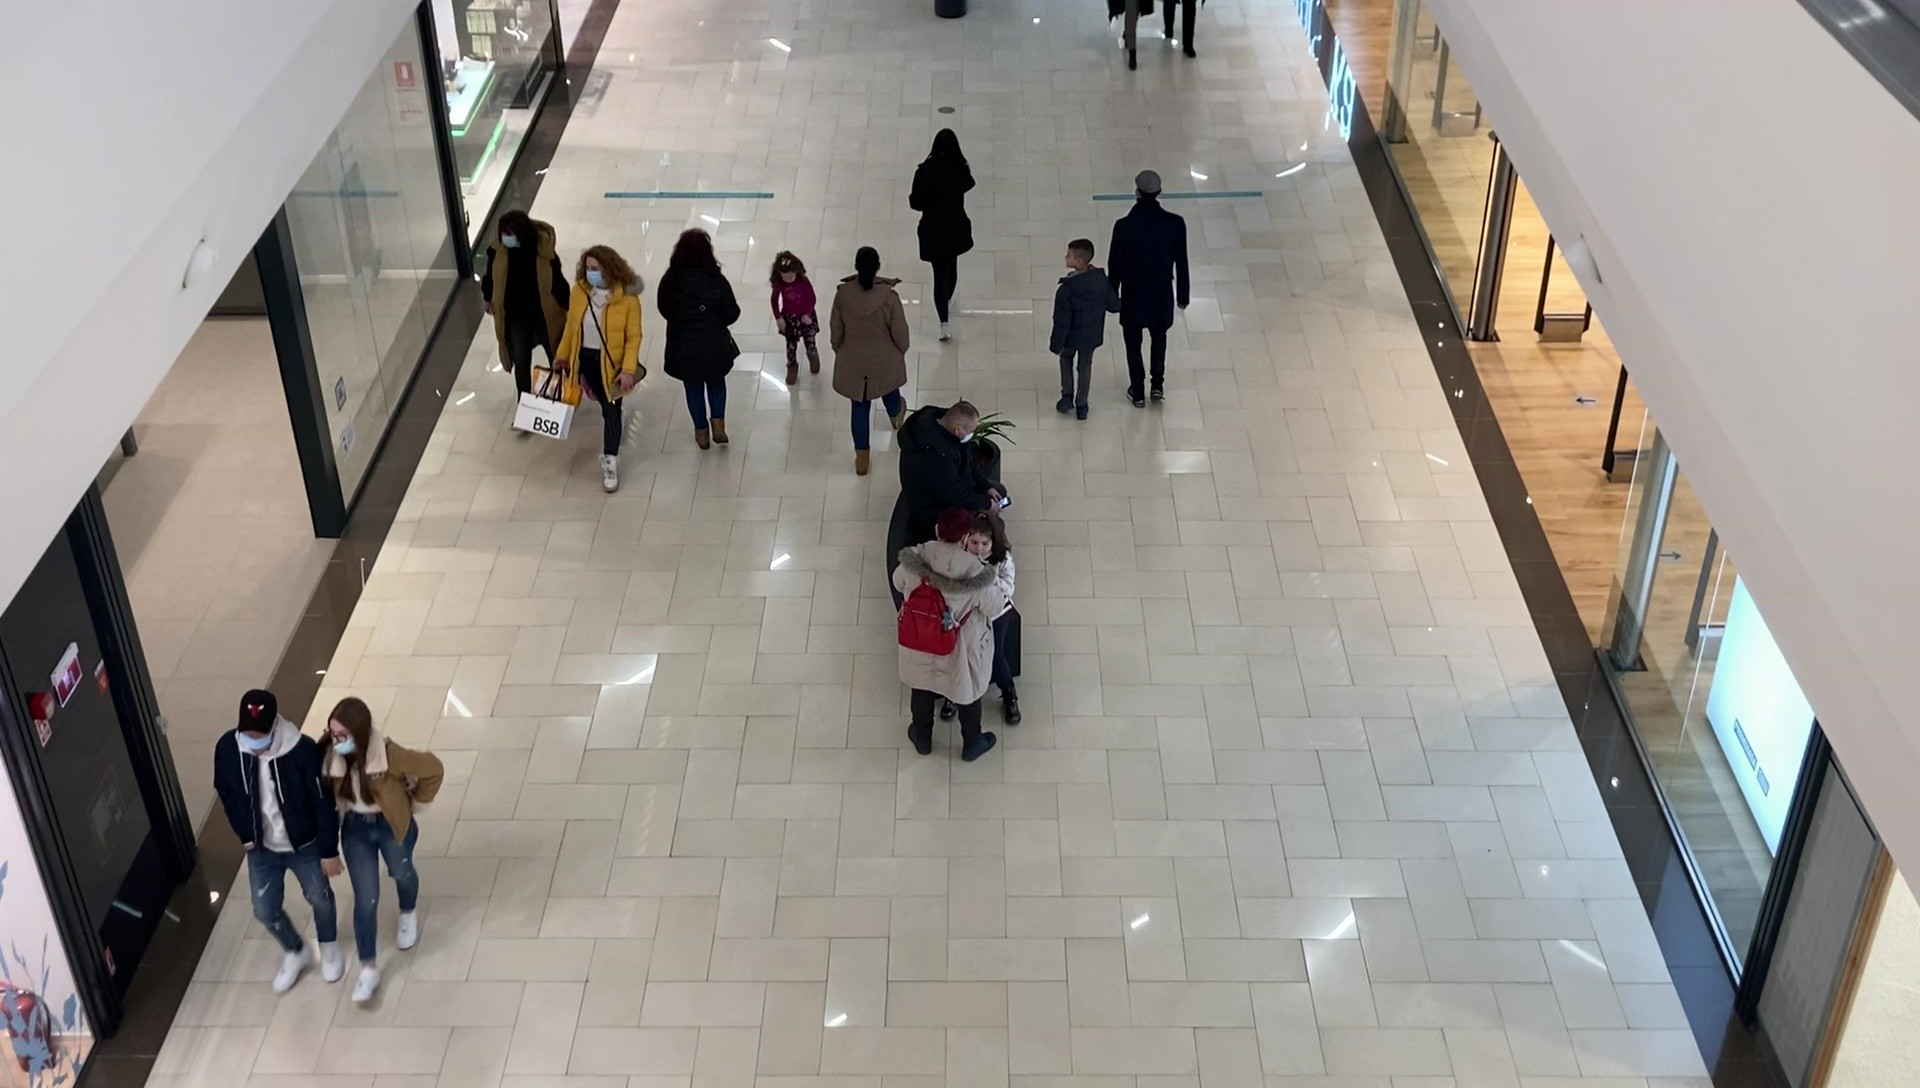person: (212, 690, 337, 993), (323, 698, 444, 1003), (556, 247, 647, 494), (1105, 171, 1194, 408), (481, 211, 569, 440), (655, 229, 743, 450), (831, 247, 906, 476), (910, 129, 981, 345), (1048, 238, 1113, 419), (770, 250, 821, 383)
